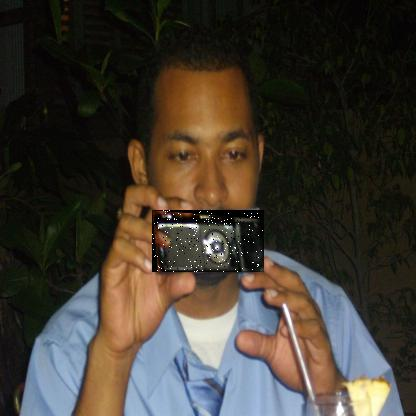Camera: (153, 211, 266, 274)
